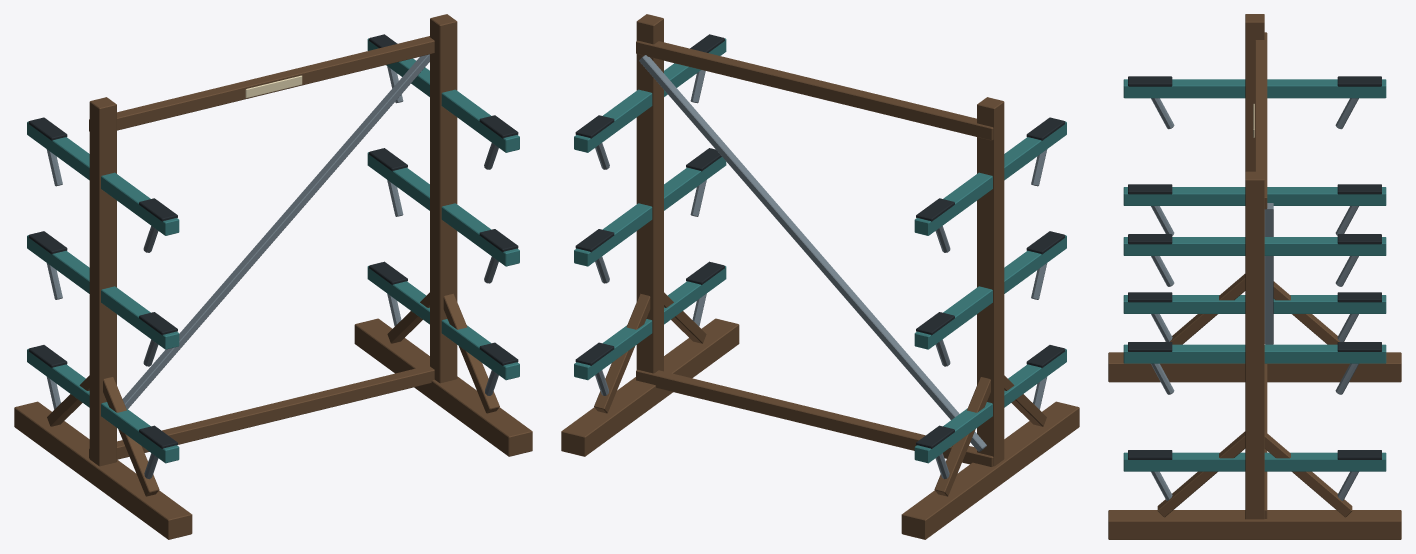
File: b20_three_level_kayak_storage_rack.glb
3 views of the same model, side by side, from view 1: azimuth 30°, elevation 25°; view 2: azimuth 150°, elevation 25°; view 3: azimuth 270°, elevation 25° (orthographic). The views are drawn at different scales.
Visible parts, largest first — view 1: b20_three_level_kayak_storage_rack; view 2: b20_three_level_kayak_storage_rack; view 3: b20_three_level_kayak_storage_rack.
Part boxes in pixels (x1,y1,x2,y2): b20_three_level_kayak_storage_rack: (14,14,532,539); b20_three_level_kayak_storage_rack: (561,14,1079,539); b20_three_level_kayak_storage_rack: (1108,14,1401,539).
Size of the model in its own units: 2.25 by 2.23 by 1.65.
